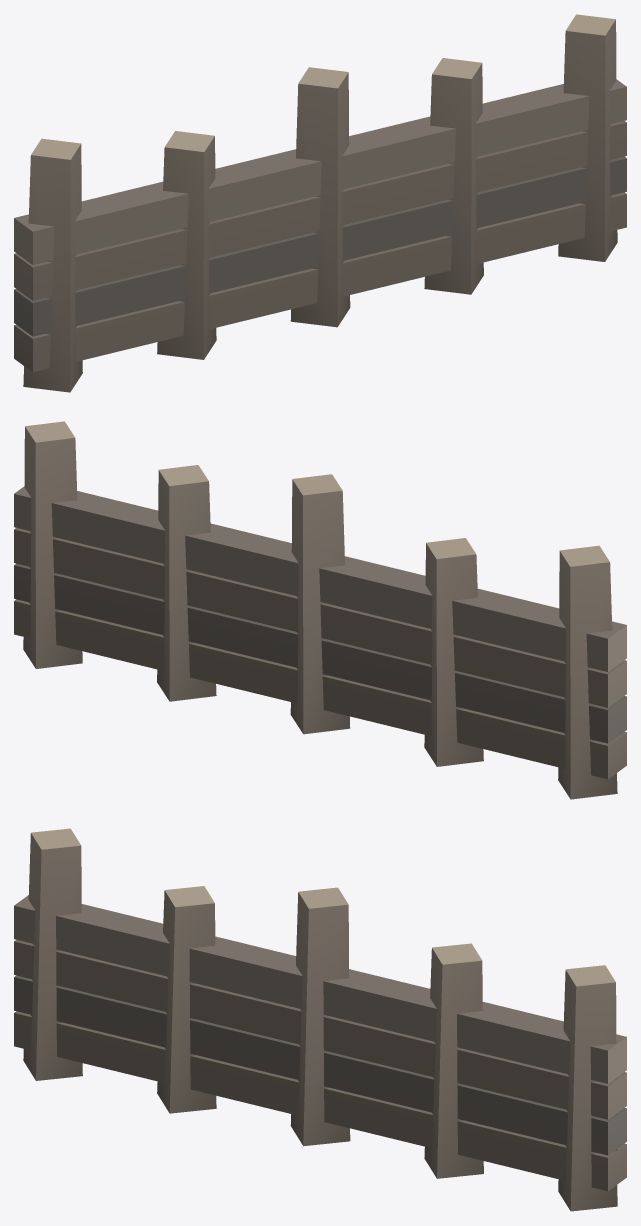
File: groyne.lod2.glb
3 views of the same model, one above another, from view 1: azimuth 30°, elevation 25°; view 2: azimuth 150°, elevation 25°; view 3: azimuth 330°, elevation 25° (orthographic).
Size of the model in its own units: 4 by 1.53 by 0.4.
